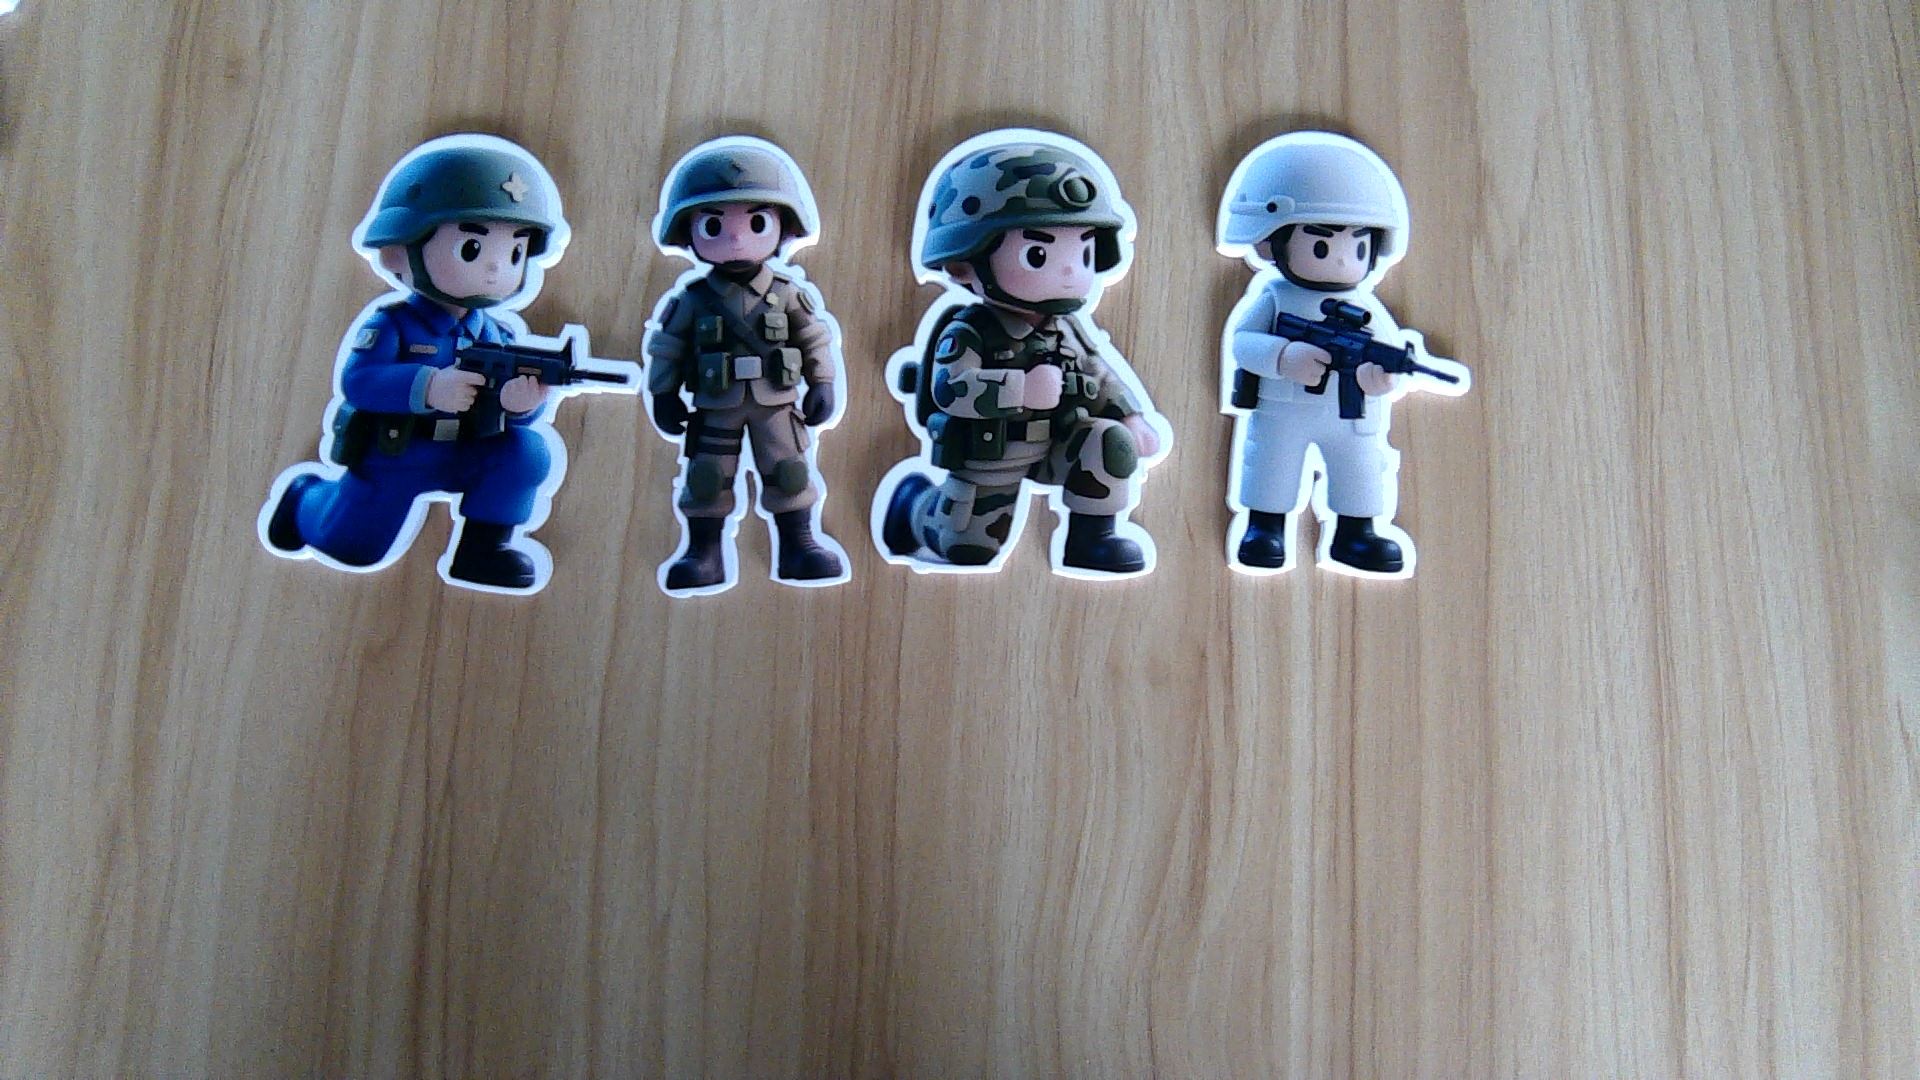人质: (1208, 287, 1478, 585)
友军: (872, 309, 1172, 591), (636, 270, 857, 597)
敌人2: (245, 306, 628, 597)
